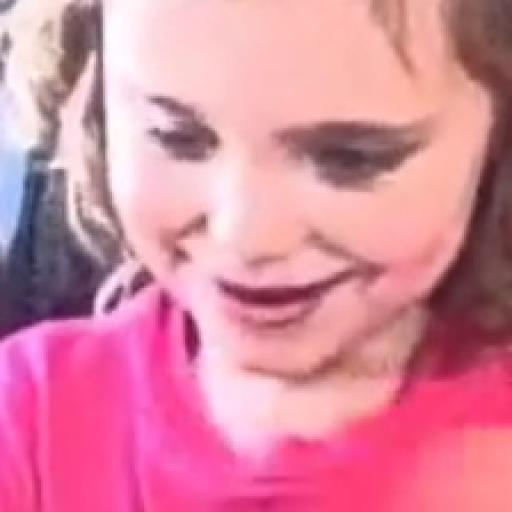Autism: (41, 1, 512, 402)
